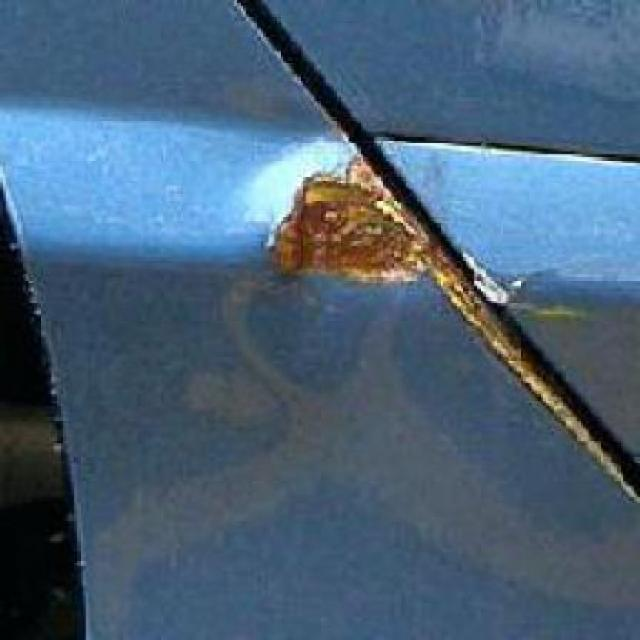dent-or-scratch: (225, 148, 627, 492)
